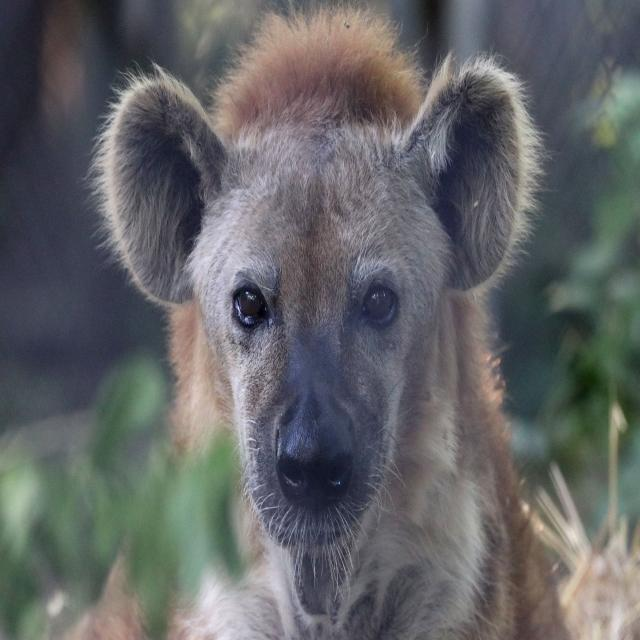Hyena: (99, 36, 542, 640)
